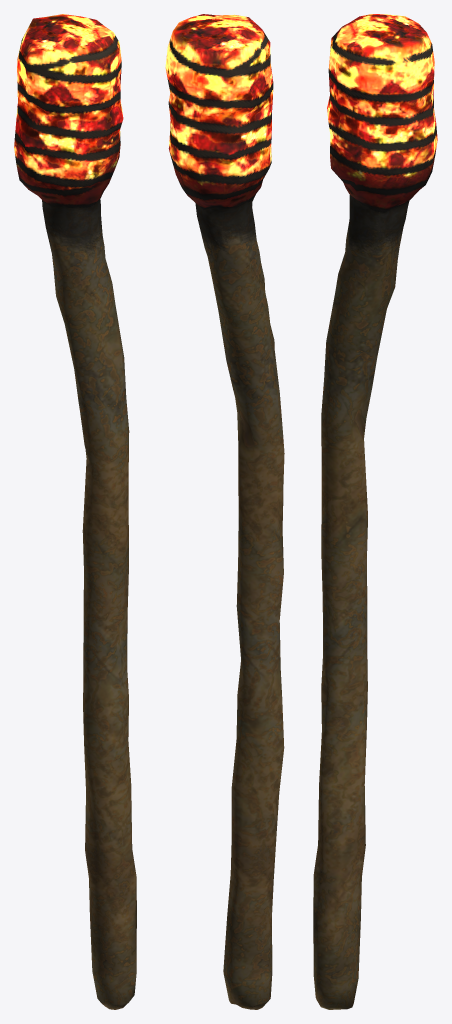
Rendered from torch_stick.glb.
The picture shows the model from 3 angles, left to right: view 1: azimuth 90°, elevation 25°; view 2: azimuth 150°, elevation 25°; view 3: azimuth 270°, elevation 25°; orthographic projection. The views are drawn at different scales.
Visible parts, largest first — view 1: torchstick; view 2: torchstick; view 3: torchstick.
Part boxes in pixels (x1,y1,x2,y2): torchstick: (14, 14, 136, 1009); torchstick: (165, 14, 284, 1009); torchstick: (313, 14, 437, 1009).
Size of the model in its own units: 0.139 by 1.45 by 0.1664.
1 material, 1 textured.
